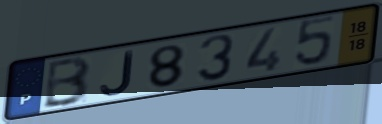3: (196, 33, 236, 83)
4: (244, 25, 284, 73)
5: (292, 13, 337, 69)
8: (146, 43, 190, 90)
B: (40, 54, 93, 110)
J: (99, 48, 136, 97)
